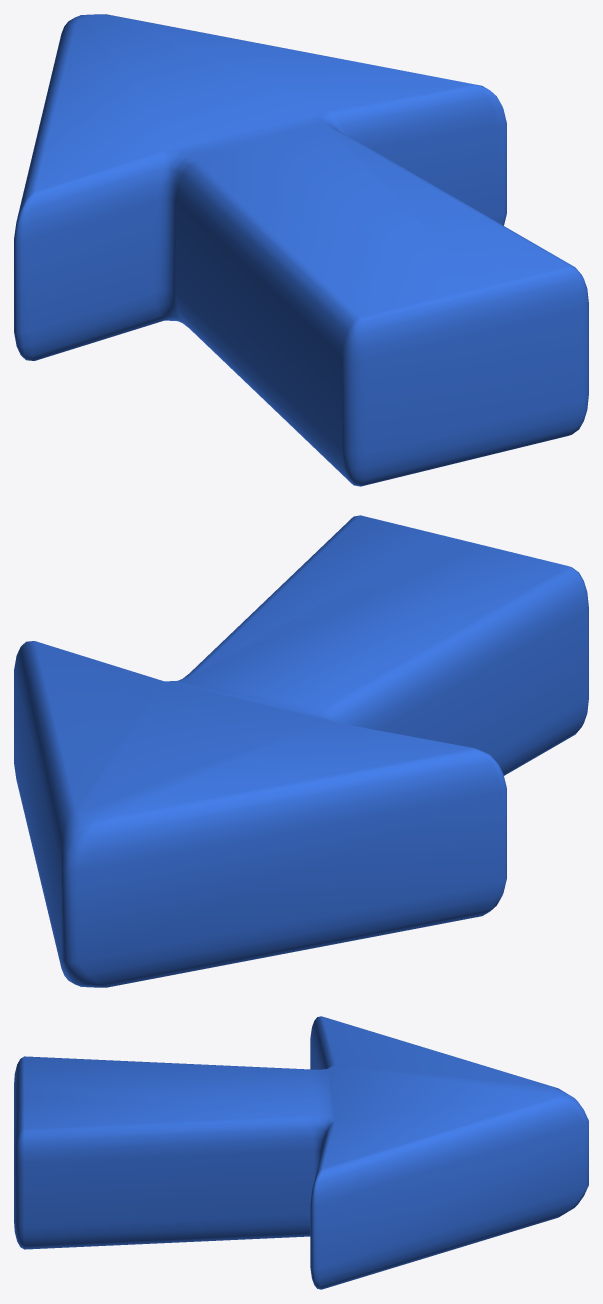
The model's file is arrow.glb.
3 renders of one model, top to bottom at view 1: azimuth 30°, elevation 25°; view 2: azimuth 150°, elevation 25°; view 3: azimuth 270°, elevation 25°, orthographic. The views are drawn at different scales.
Parts seen in each view (by area): view 1: Arrow; view 2: Arrow; view 3: Arrow.
Part boxes in pixels (x1,y1,x2,y2): Arrow: (14,14,588,486); Arrow: (14,515,588,987); Arrow: (14,1016,588,1289).
Bounding box in the file's own units: 2.11 × 0.6956 × 3.01.
